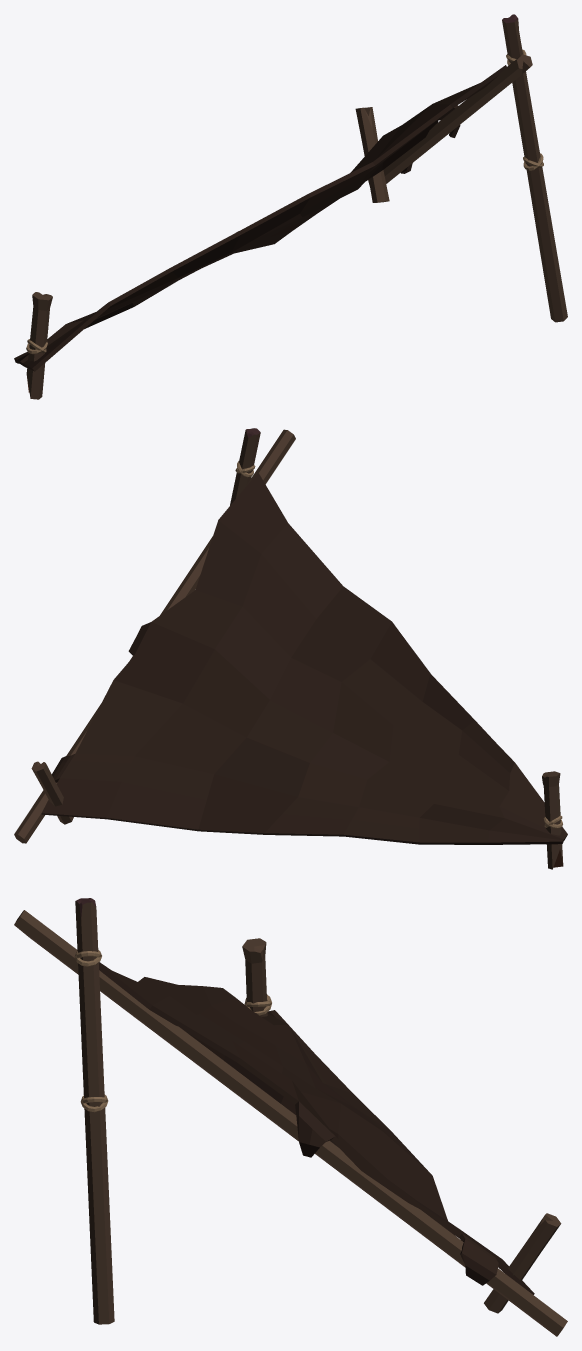
The model's file is Tent_01.gltf.
3 renders of one model, top to bottom at view 1: azimuth 30°, elevation 25°; view 2: azimuth 150°, elevation 25°; view 3: azimuth 270°, elevation 25°, orthographic. The views are drawn at different scales.
Visible parts, largest first — view 1: tent 45; view 2: tent 45; view 3: tent 45.
Boxes of the visible parts, x1,y1,x2,y2 form: tent 45: [14, 14, 567, 399]; tent 45: [14, 428, 567, 869]; tent 45: [14, 898, 567, 1336].
Bounding box in the file's own units: 1.6 × 1.04 × 1.29.
Materials: 1 (1 with a texture image).
